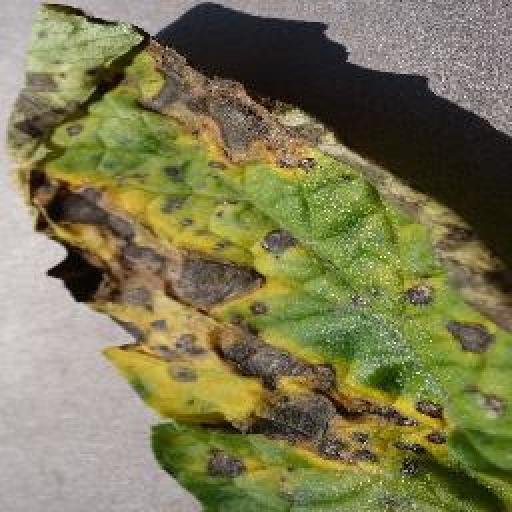Early Blight: (10, 2, 512, 512)
